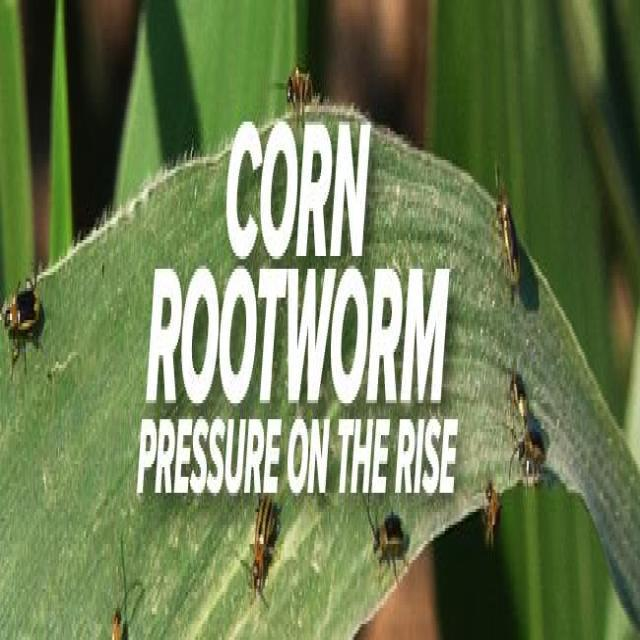trips: (1, 245, 50, 374), (489, 162, 529, 302), (240, 496, 280, 604), (364, 502, 414, 580), (280, 55, 322, 119), (477, 462, 507, 548), (500, 359, 536, 426), (511, 422, 558, 472), (100, 583, 132, 640)
